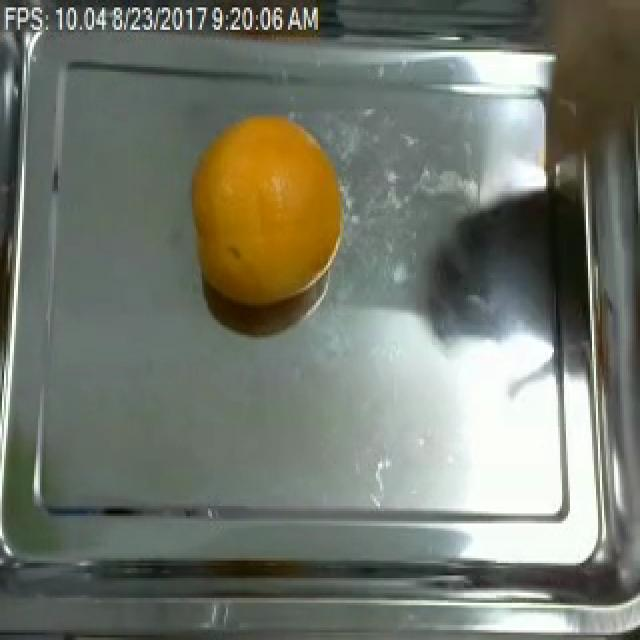Fruit: (186, 109, 346, 315)
